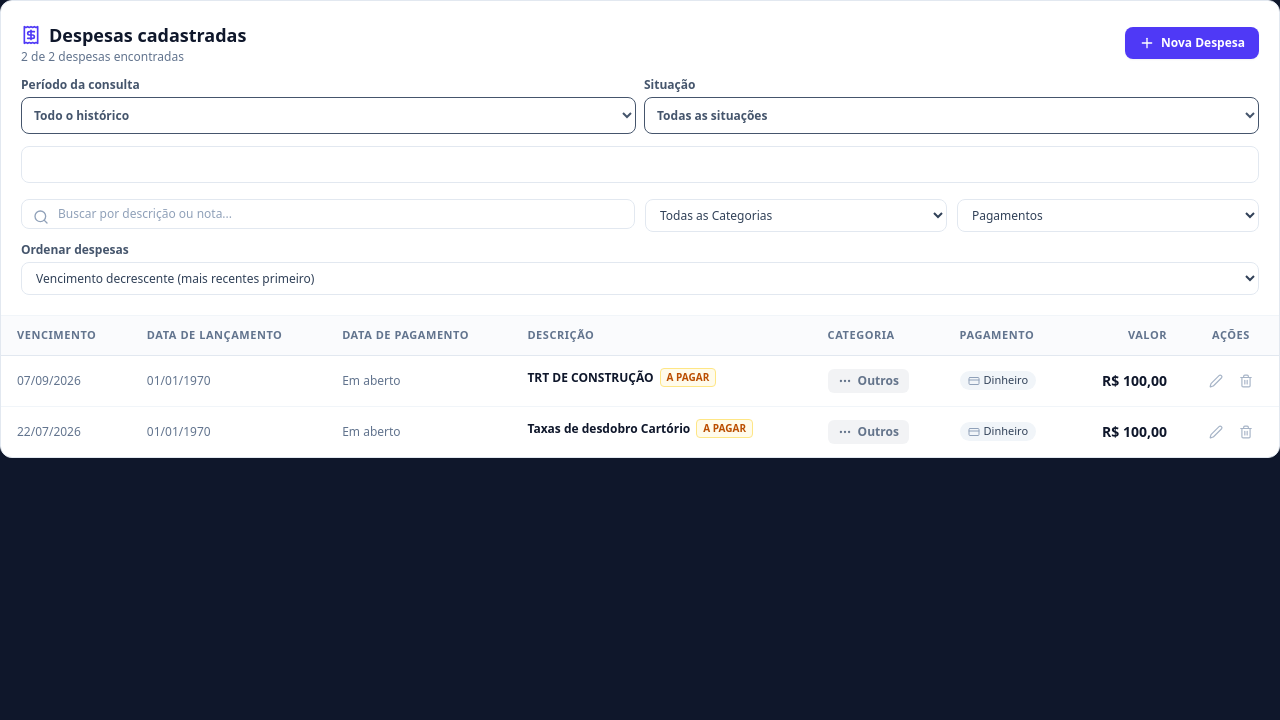
Test: old outstanding PJ expenses are visible without changing the current month
Expected: the text "Taxas de desdobro Cartório" is shown, top-left (527, 421), bottom-right (690, 437)
Expected: the text "TRT DE CONSTRUÇÃO" is shown, top-left (527, 370), bottom-right (654, 386)
Select "Mês selecionado (2026-10)" in the dropdown labelled "Período da consulta" at x=328, y=116, box top-left (21, 97), bottom-right (636, 134)
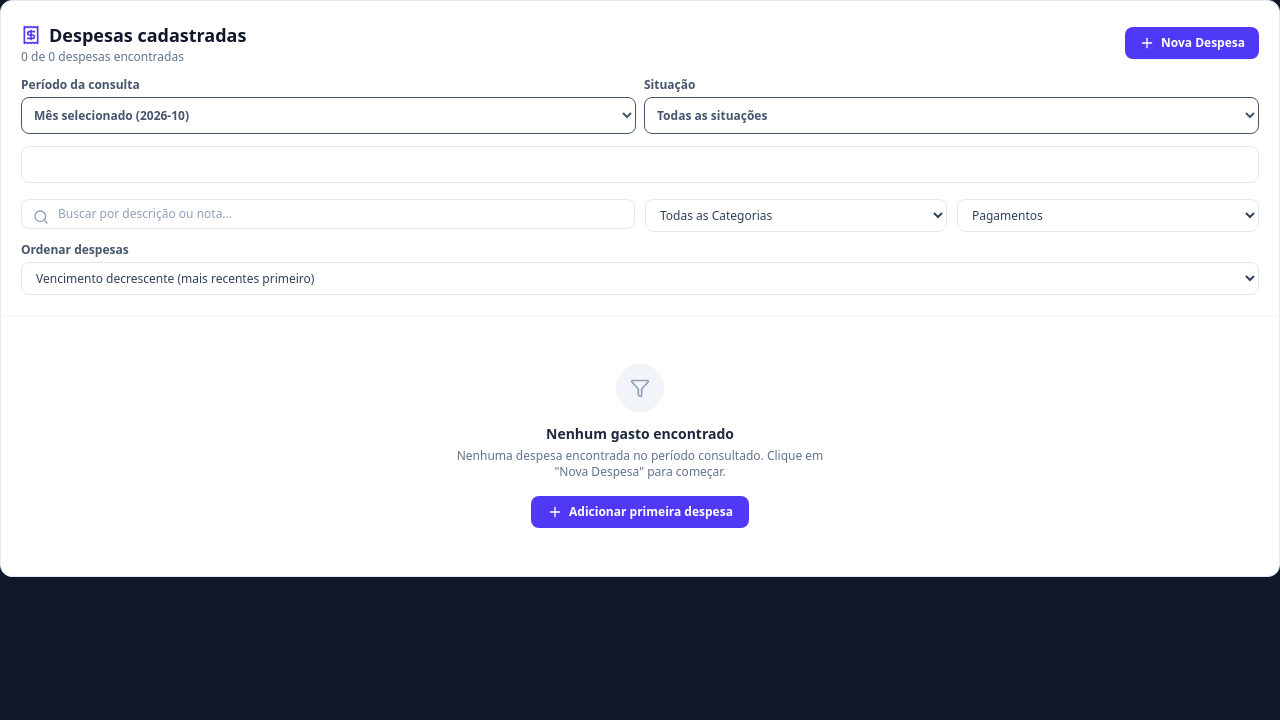
Expected: the text "Taxas de desdobro Cartório" is gone
Select "Todo o histórico" in the dropdown labelled "Período da consulta" at x=328, y=116, box top-left (21, 97), bottom-right (636, 134)
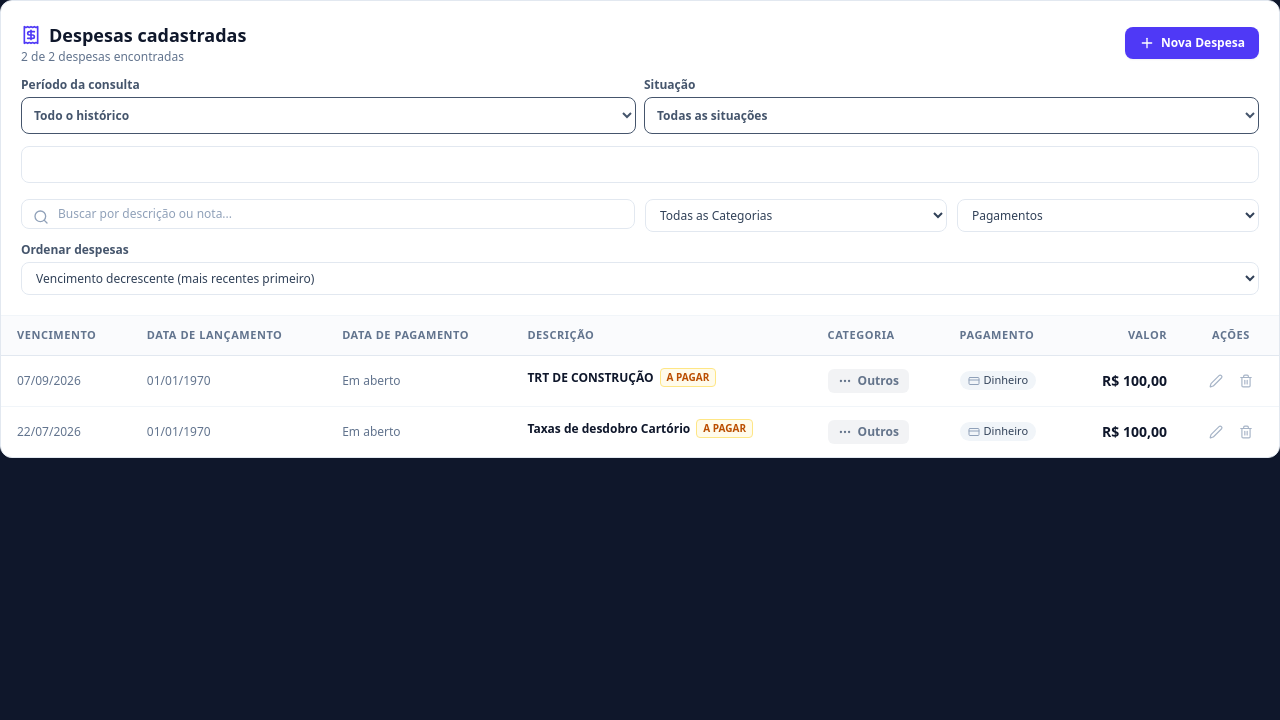
Select "Pagas / Pagas no cartão" in the dropdown named "Situação da consulta" at x=952, y=116, box top-left (644, 97), bottom-right (1259, 134)
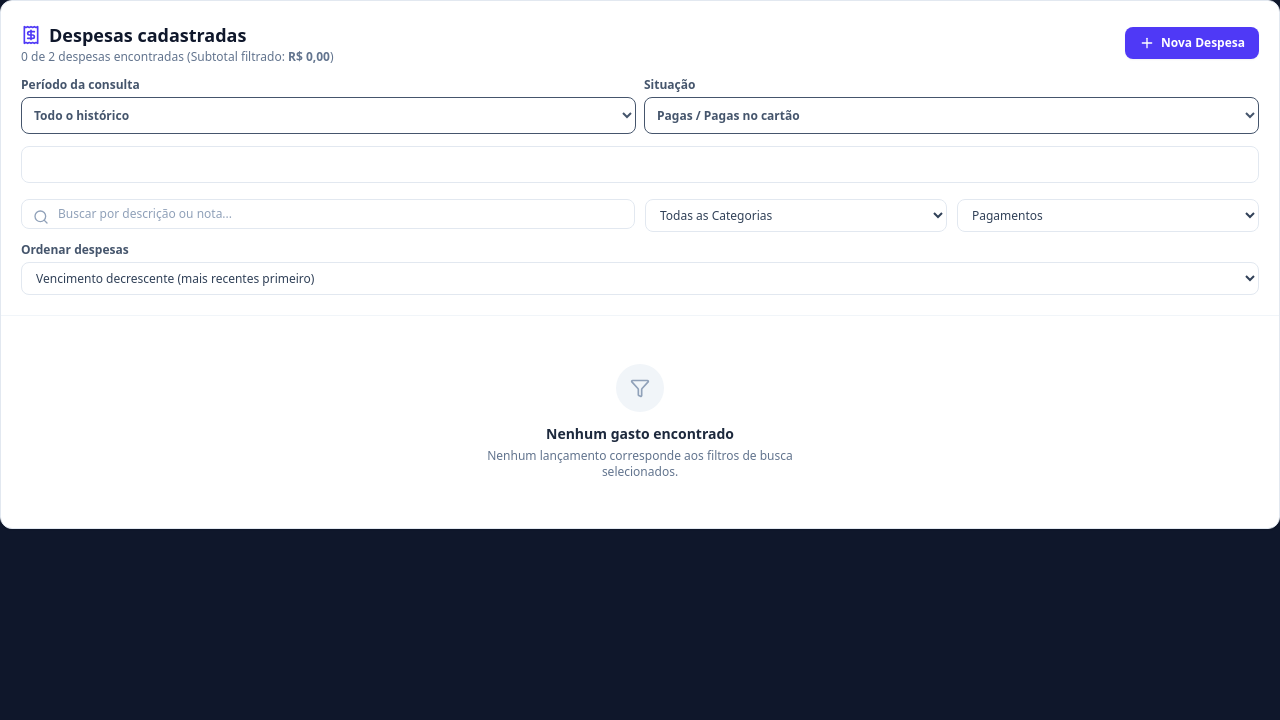
Expected: the text "Taxas de desdobro Cartório" is gone
Select "Em aberto / Vencidas" in the dropdown named "Situação da consulta" at x=952, y=116, box top-left (644, 97), bottom-right (1259, 134)
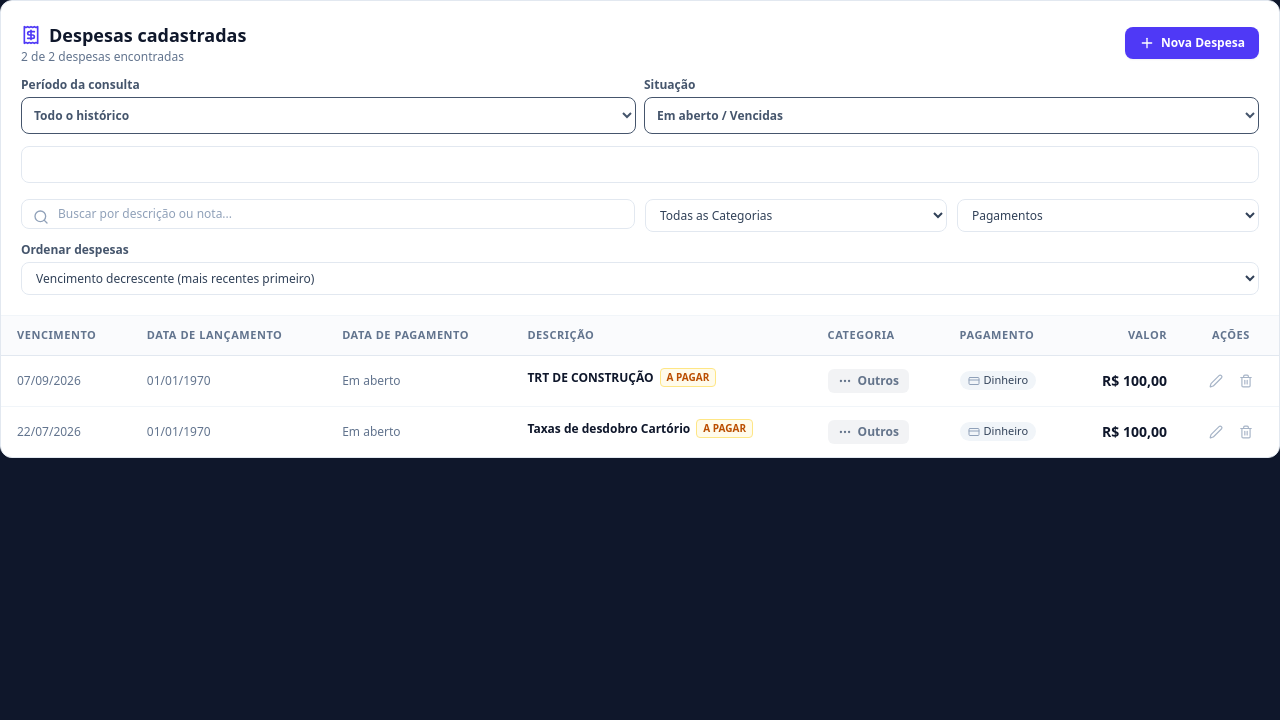
Expected: the text "Taxas de desdobro Cartório" is shown, top-left (527, 421), bottom-right (690, 437)
